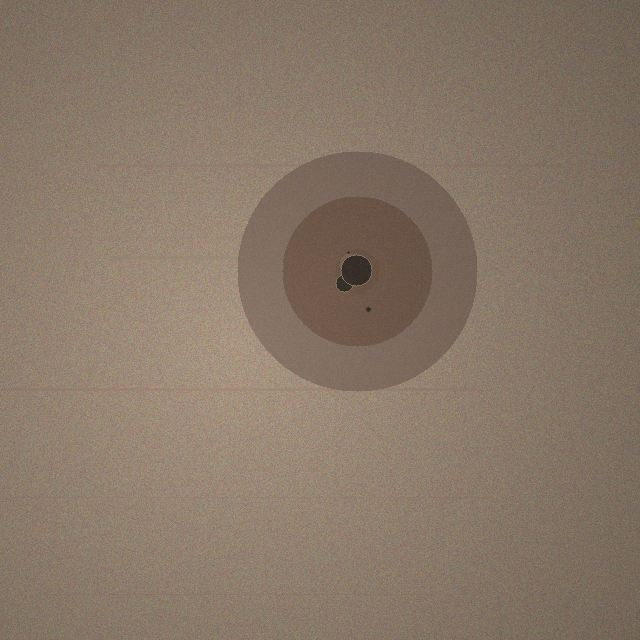shrinkage: (237, 151, 477, 391)
